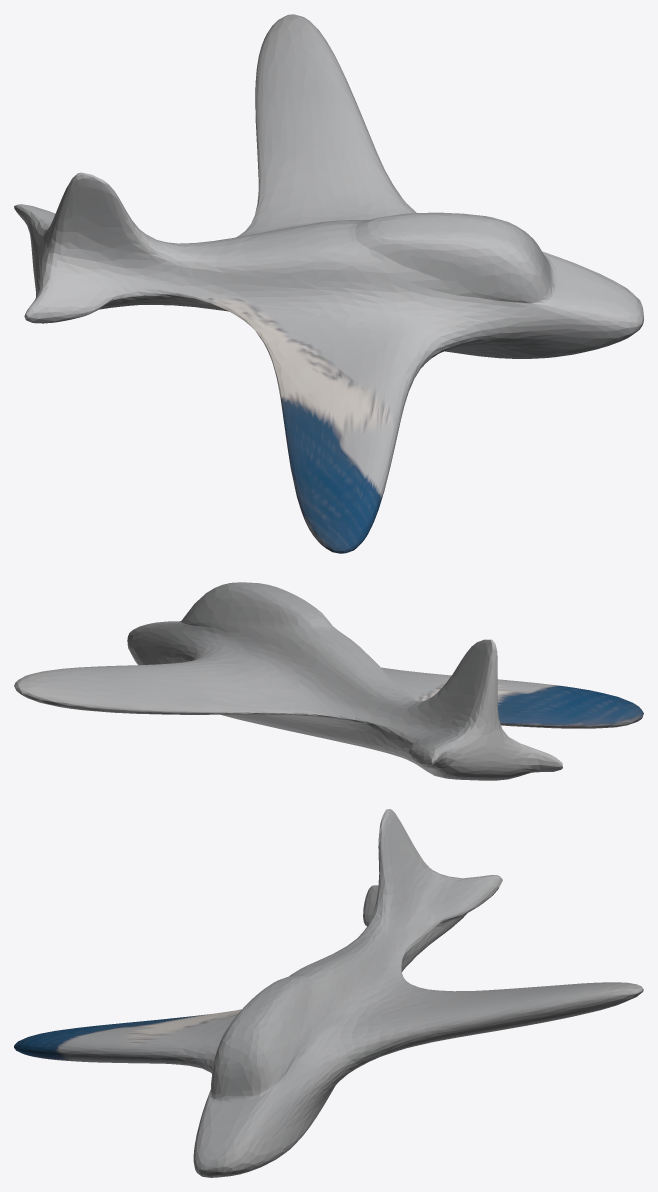
3 views of the same model, one above another, from view 1: azimuth 30°, elevation 25°; view 2: azimuth 150°, elevation 25°; view 3: azimuth 270°, elevation 25° (orthographic). The views are drawn at different scales.
Parts seen in each view (by area): view 1: world; view 2: world; view 3: world.
Part boxes in pixels (x1,y1,x2,y2): world: (14,14,643,553); world: (14,582,643,780); world: (14,809,643,1177).
Bounding box in the file's own units: 0.87 × 0.3799 × 1.
